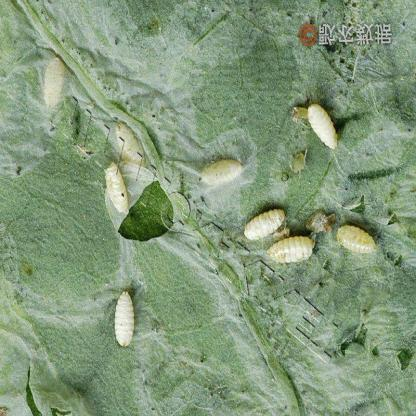whorl-maggot: (301, 100, 345, 152), (238, 204, 290, 245), (336, 219, 382, 260), (264, 235, 324, 266), (199, 156, 249, 191), (113, 286, 139, 350), (104, 160, 130, 213), (43, 50, 64, 114)
